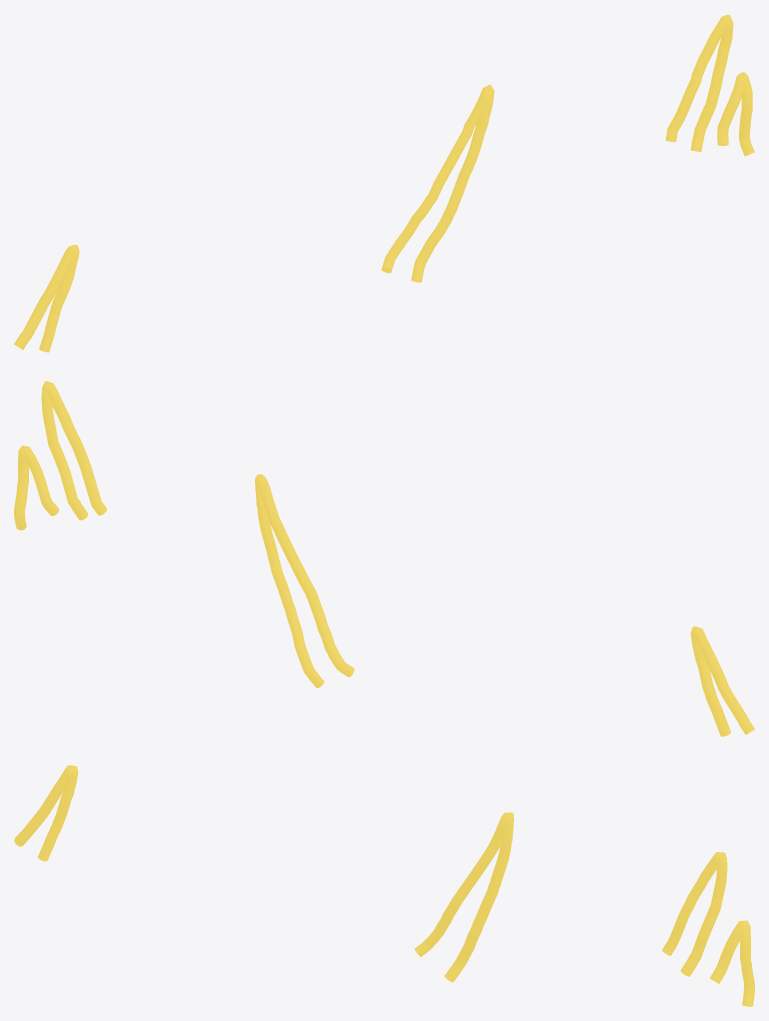
The model's file is gash_secondary.glb.
The picture shows the model from 3 angles, top to bottom: view 1: azimuth 30°, elevation 25°; view 2: azimuth 150°, elevation 25°; view 3: azimuth 330°, elevation 25°; orthographic projection.
Visible parts, largest first — view 1: seondary; view 2: seondary; view 3: seondary.
Boxes of the visible parts, x1,y1,x2,y2 form: seondary: [14, 14, 754, 352]; seondary: [14, 381, 754, 736]; seondary: [14, 765, 754, 1006].
Size of the model in its own units: 0.0305 by 0.00852 by 0.00231.
